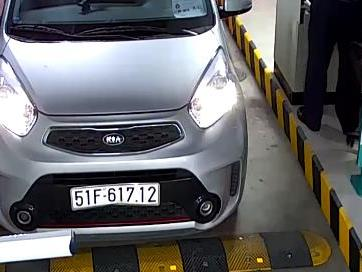number: (71, 182, 160, 209)
